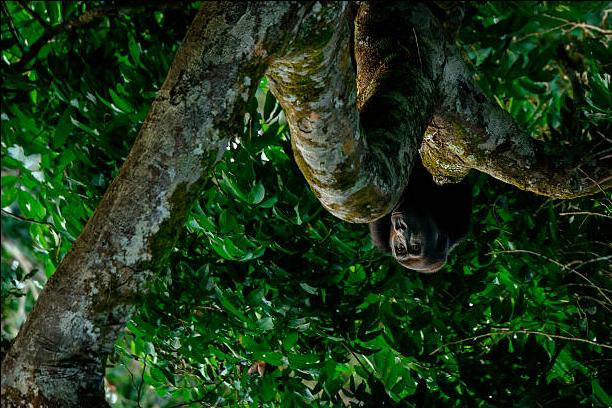gorille_Autres: (318, 144, 506, 282)
